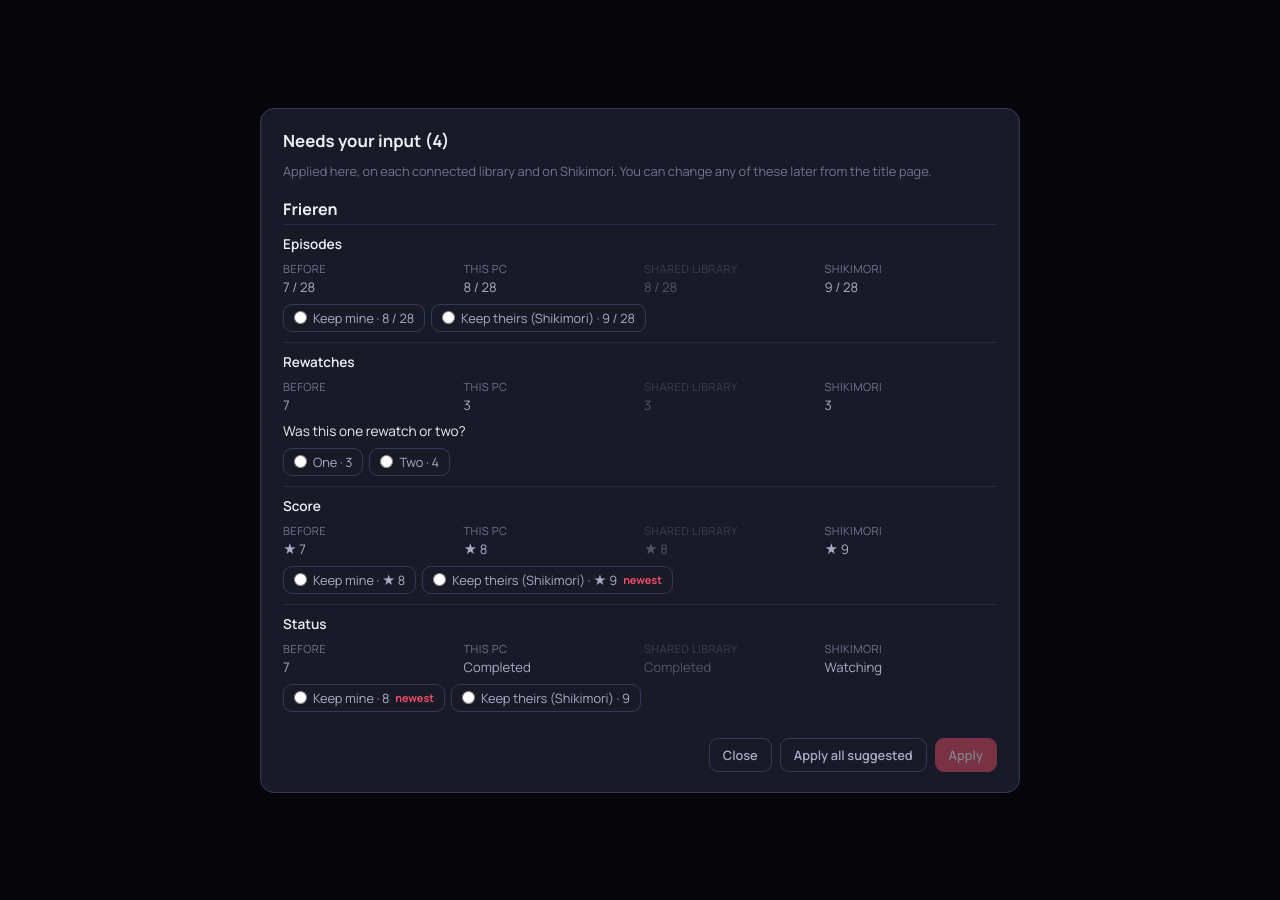
it: the review sheet › "Apply all suggested" resolves each row with its suggestion and leaves the rows without one, saying how many
This screenshot has width=1280, height=900.
Click the button with test id "apply-suggested" at (853, 754), box [780,738,927,772]
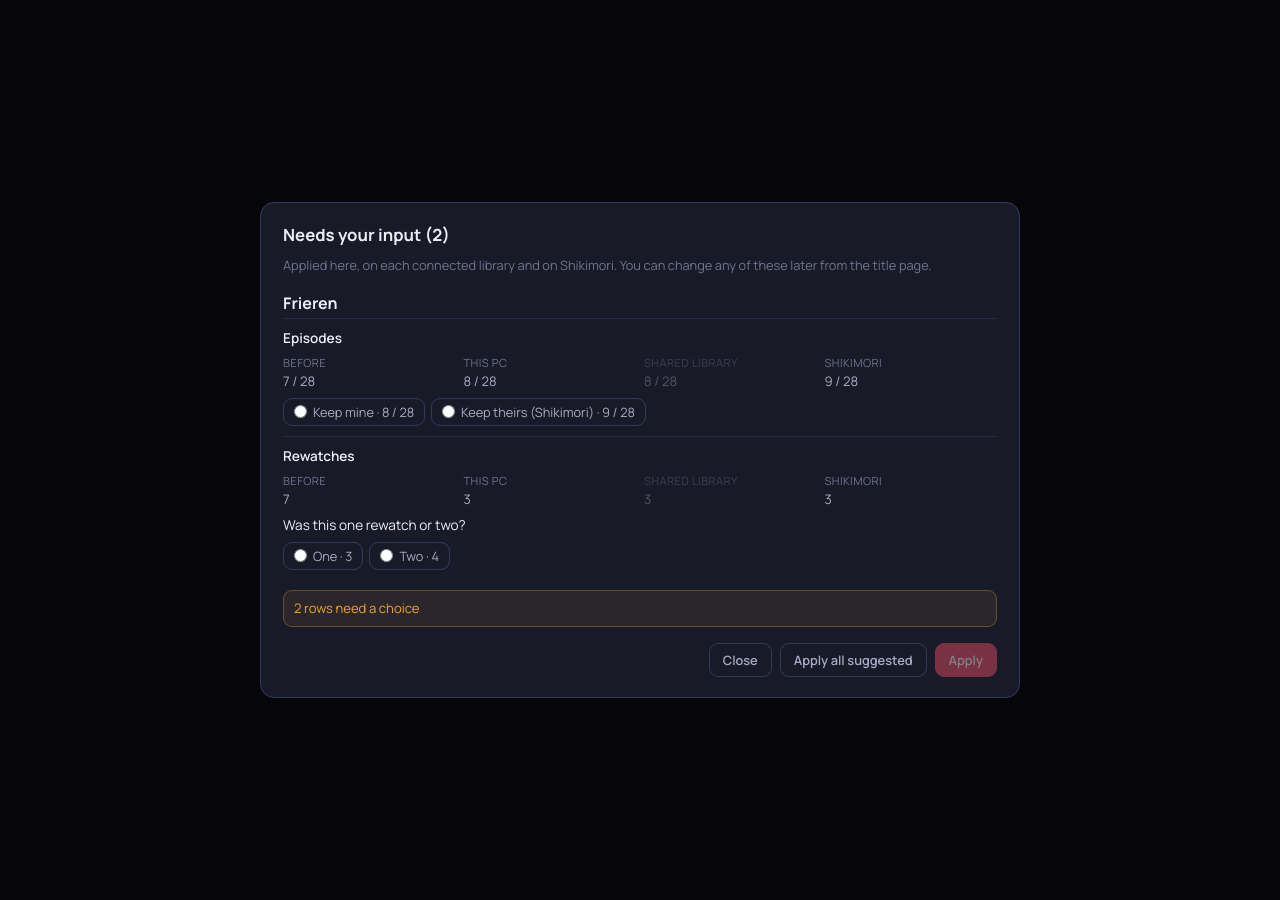
Check: the text with test id "review-message" reads "2 rows need a choice", box [294,599,419,617]
Check: the text with test id "review-title" reads "Needs your input (2)", box [283,223,450,246]
